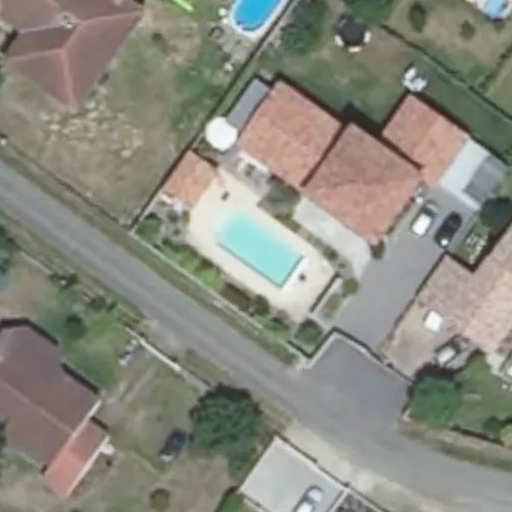pool: (199, 226, 303, 249)
